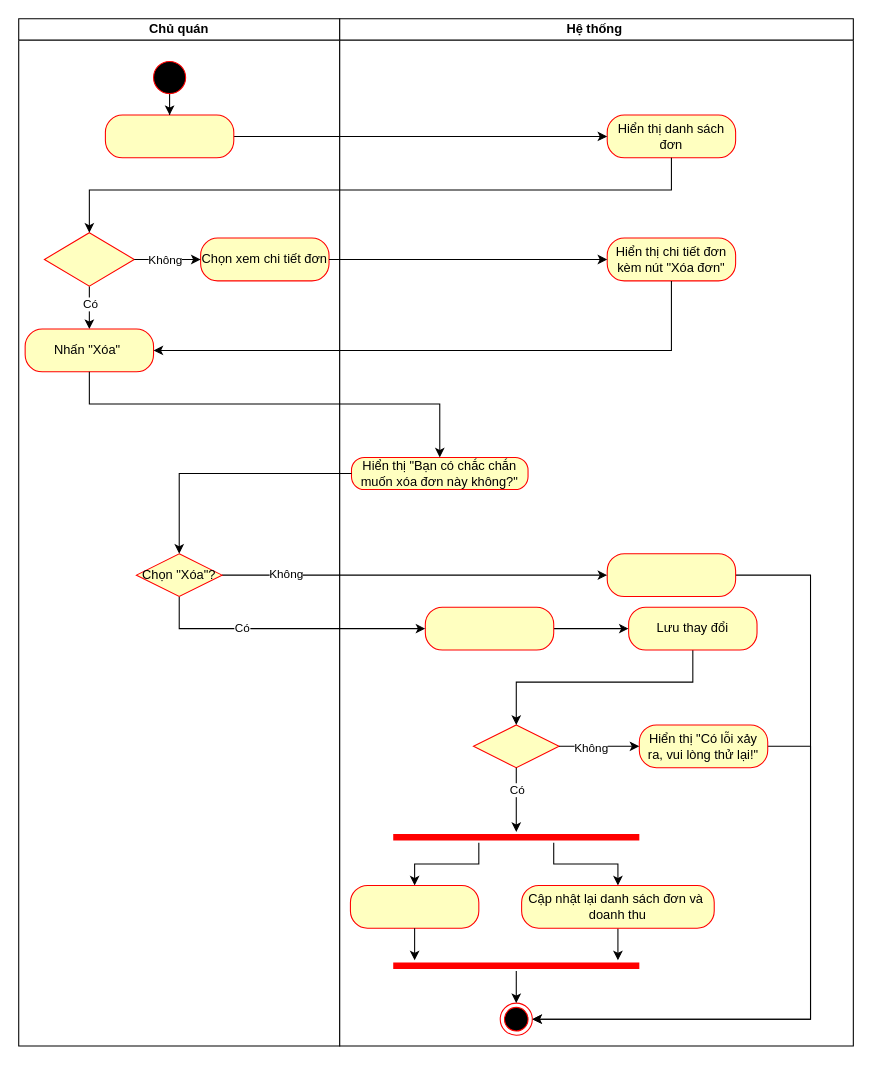
This 872x1065 diagram has some shape labels left out. Here are the shapes that lost their labels. From the top down, the centre of each, then its label:
(x=169, y=136): Chợn "Đơn hàng"
(x=88, y=259): Xóa trên danh sách đơn?
(x=671, y=575): Giữ nguyên đơn
(x=489, y=628): Đánh dấu đơn đã xóa
(x=515, y=746): Lưu thành công?
(x=414, y=906): Hiển thị "Đã xóa đơn"
